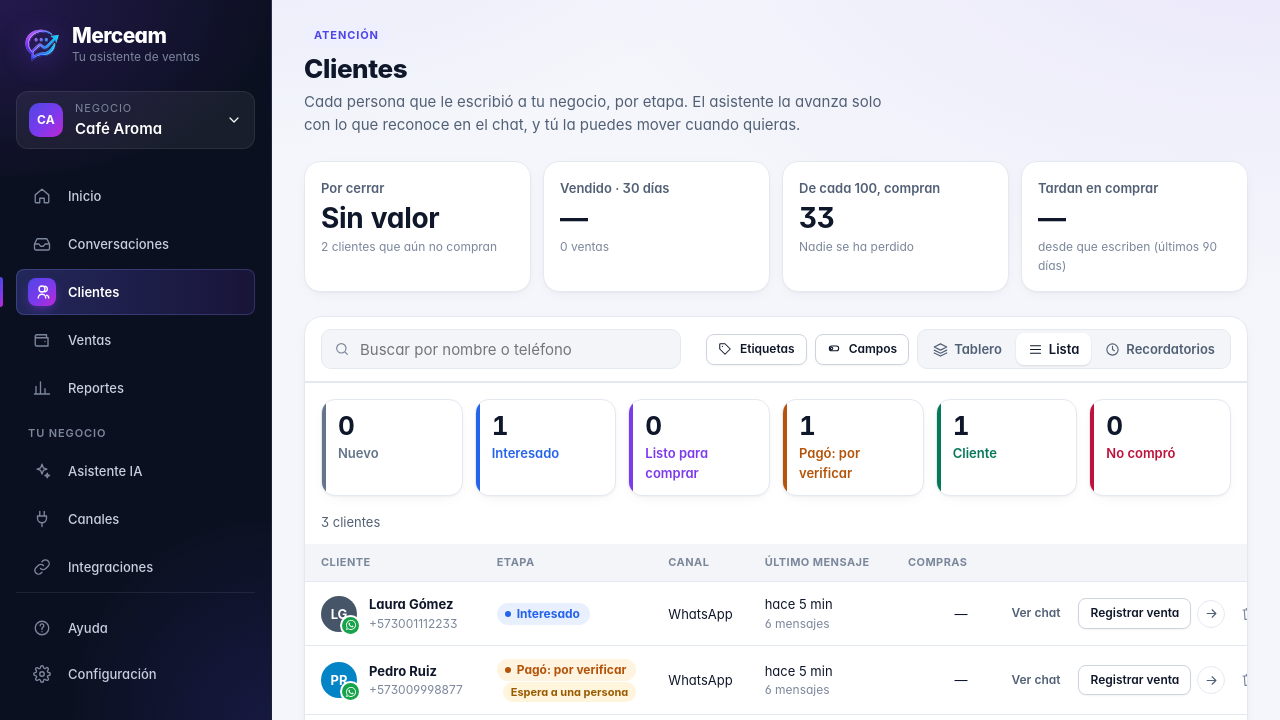
Clientes › en la lista muestra cada cliente con su etapa, filtra por etapa y busca
expect the heading "Clientes" is shown: met, box [304, 53, 910, 84]
expect the text "Pagó: por verificar" below "573001112233" is shown: met, box [517, 662, 626, 677]
Click the button "1 Pagó: por verificar": (853, 448) [782, 399, 924, 496]
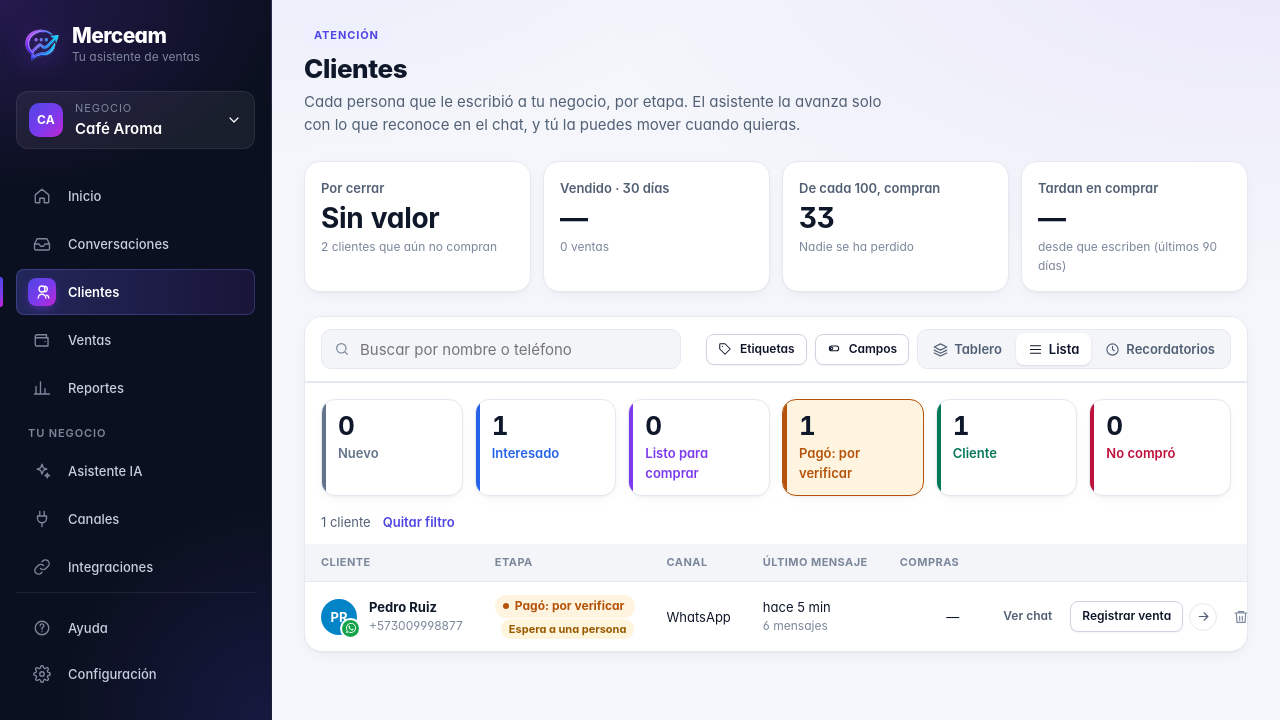
expect the button "Pedro Ruiz" is shown: met, box [369, 597, 463, 617]
expect the number of rows is 2: met, box [305, 544, 1247, 582]; [305, 582, 1247, 651]
Click the button "Quitar filtro": (419, 522) [383, 512, 454, 532]
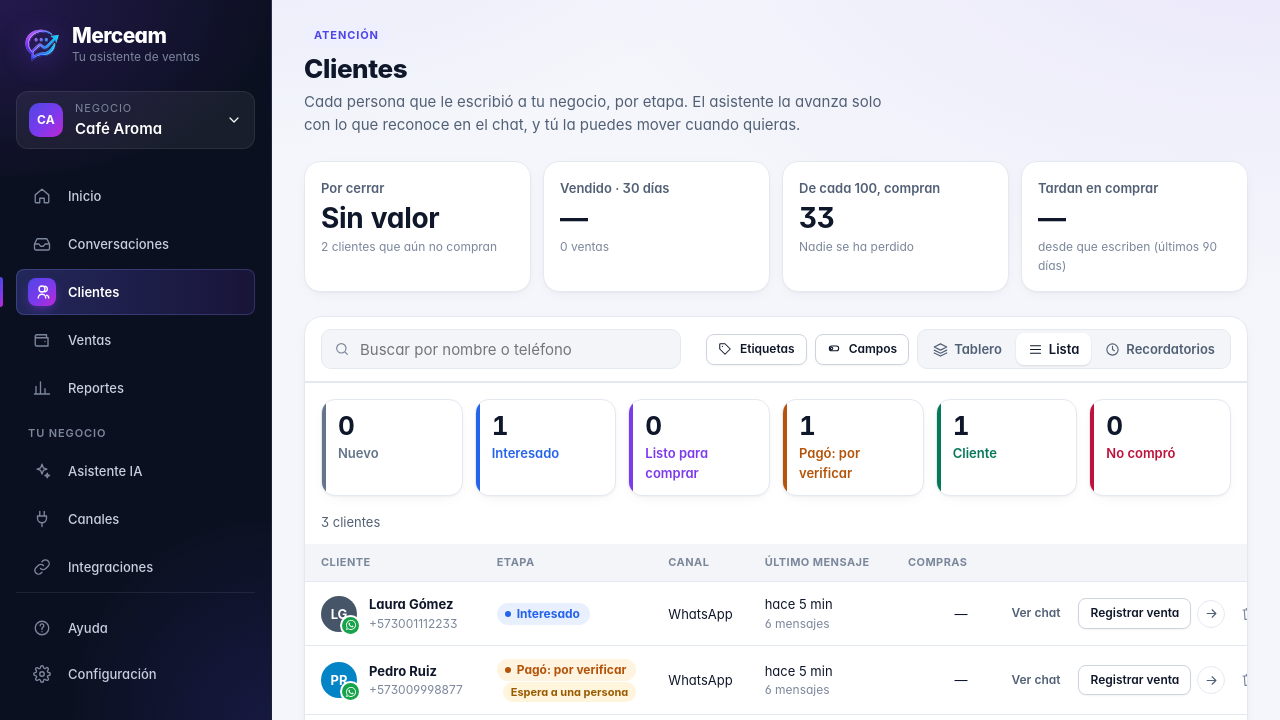
In the search field named "Buscar cliente": (513, 349) [358, 330, 668, 368], type "ana"
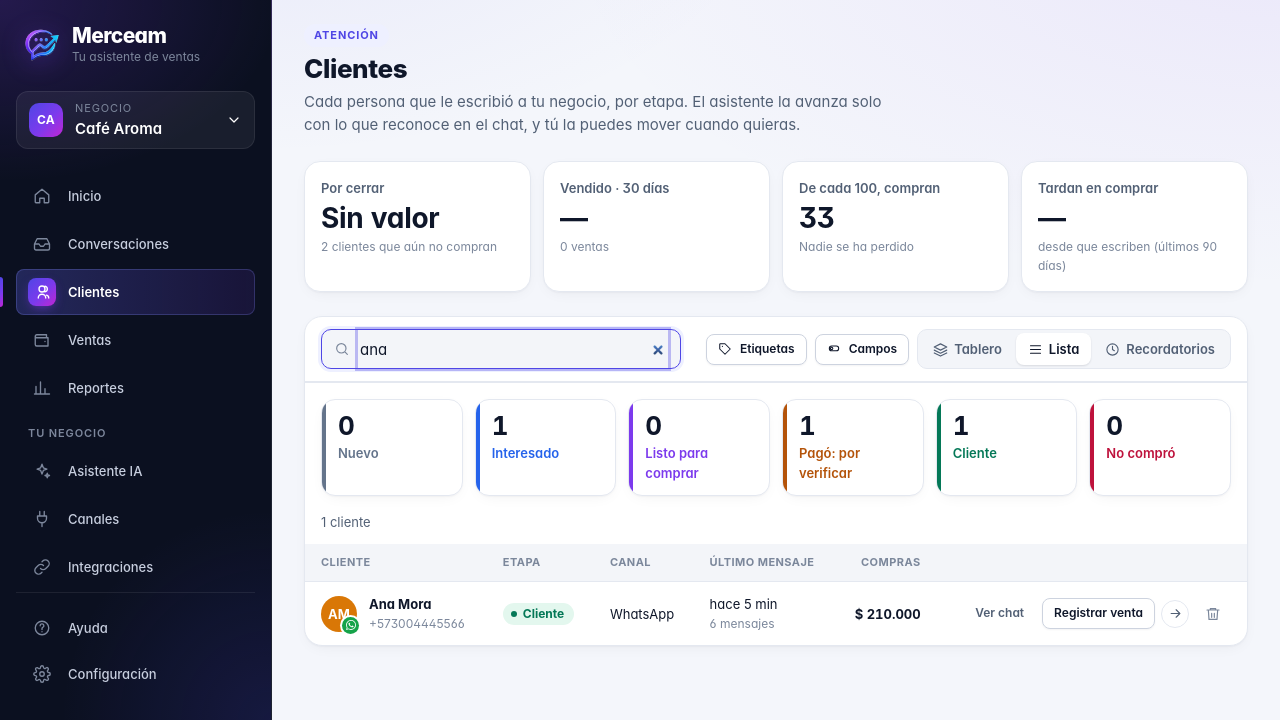
expect the button "Ana Mora" is shown: met, box [369, 594, 465, 615]
expect the number of rows is 2: met, box [305, 544, 1247, 582]; [305, 582, 1247, 645]
